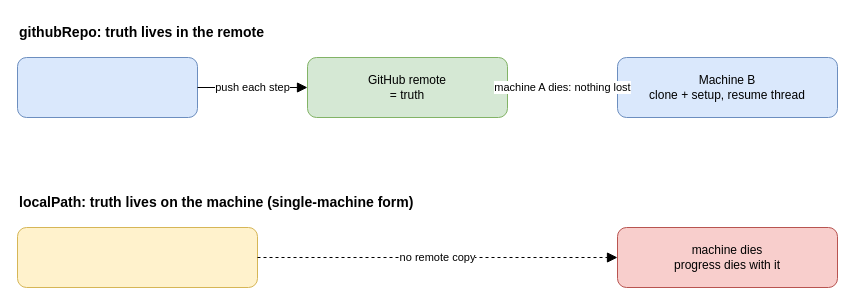
Some shapes in this 855 by 305 pixel diagram are drawn without their labels. The box of each missing label's shape, as (x1, y1, x2, y2) in pixels:
Machine A localPath checkout = truth: (16, 226, 258, 288)
Machine A worktree = cache: (16, 56, 198, 118)
